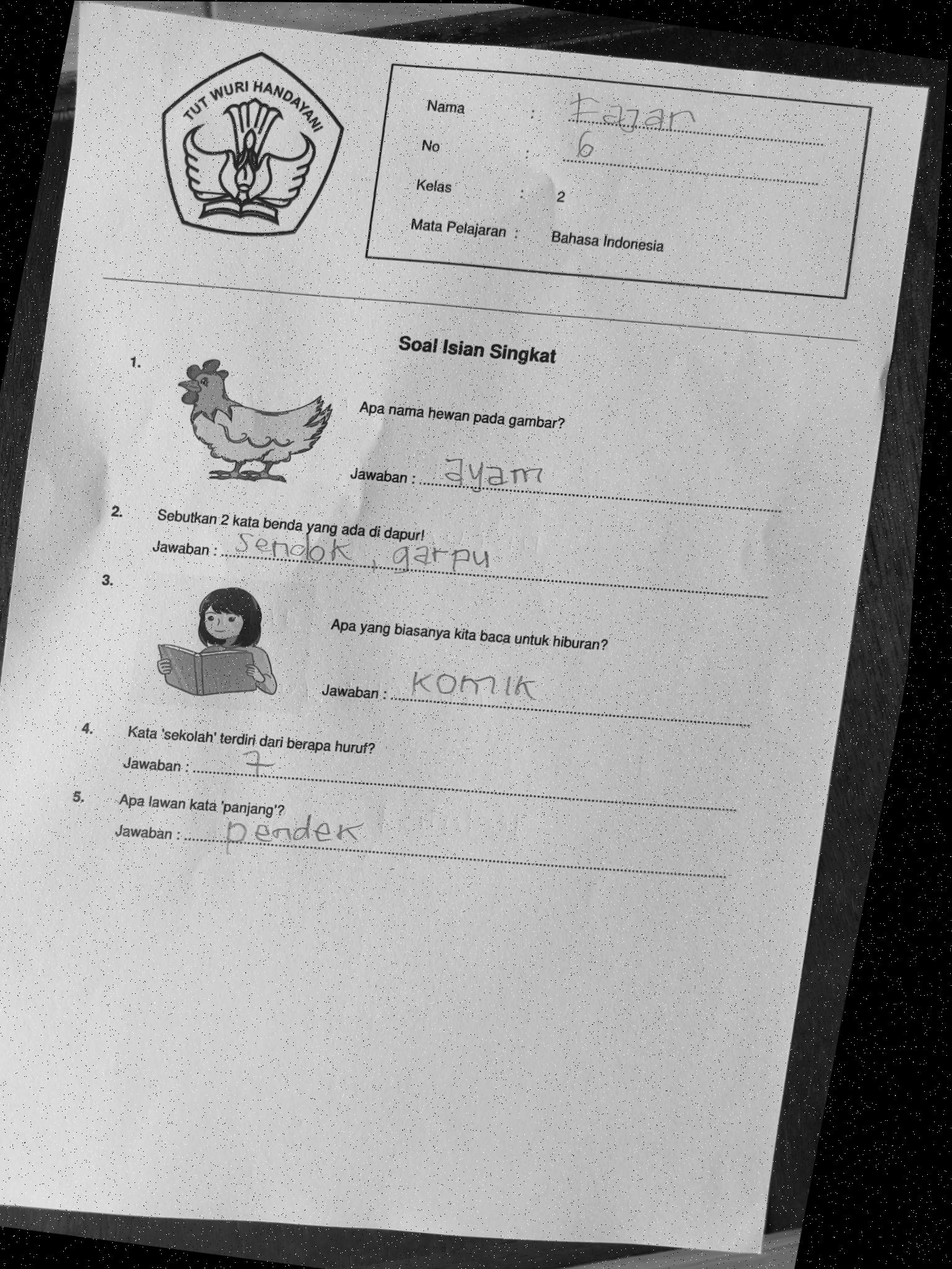soal-1: (100, 341, 812, 536)
soal-2: (86, 487, 790, 627)
soal-3: (70, 566, 788, 749)
soal-4: (55, 708, 778, 829)
soal-5: (58, 782, 767, 896)
